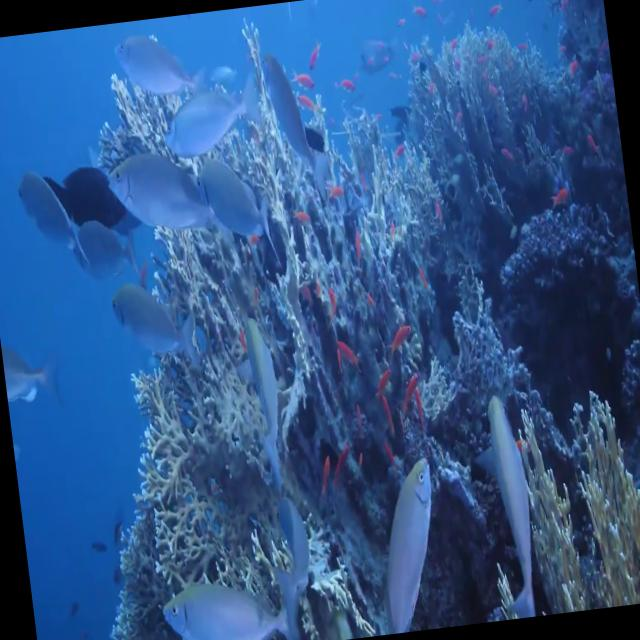fish: (449, 375, 552, 623), (342, 443, 454, 637), (250, 35, 344, 211), (98, 140, 220, 273), (182, 154, 290, 278), (96, 266, 205, 382), (154, 64, 262, 176), (156, 556, 291, 640), (231, 298, 291, 484), (104, 20, 208, 124), (258, 475, 326, 615), (1, 154, 74, 252), (70, 200, 147, 288), (0, 333, 68, 423), (45, 159, 124, 233), (346, 19, 403, 95), (392, 361, 427, 434), (384, 310, 417, 360), (331, 326, 363, 374), (368, 358, 399, 400)
